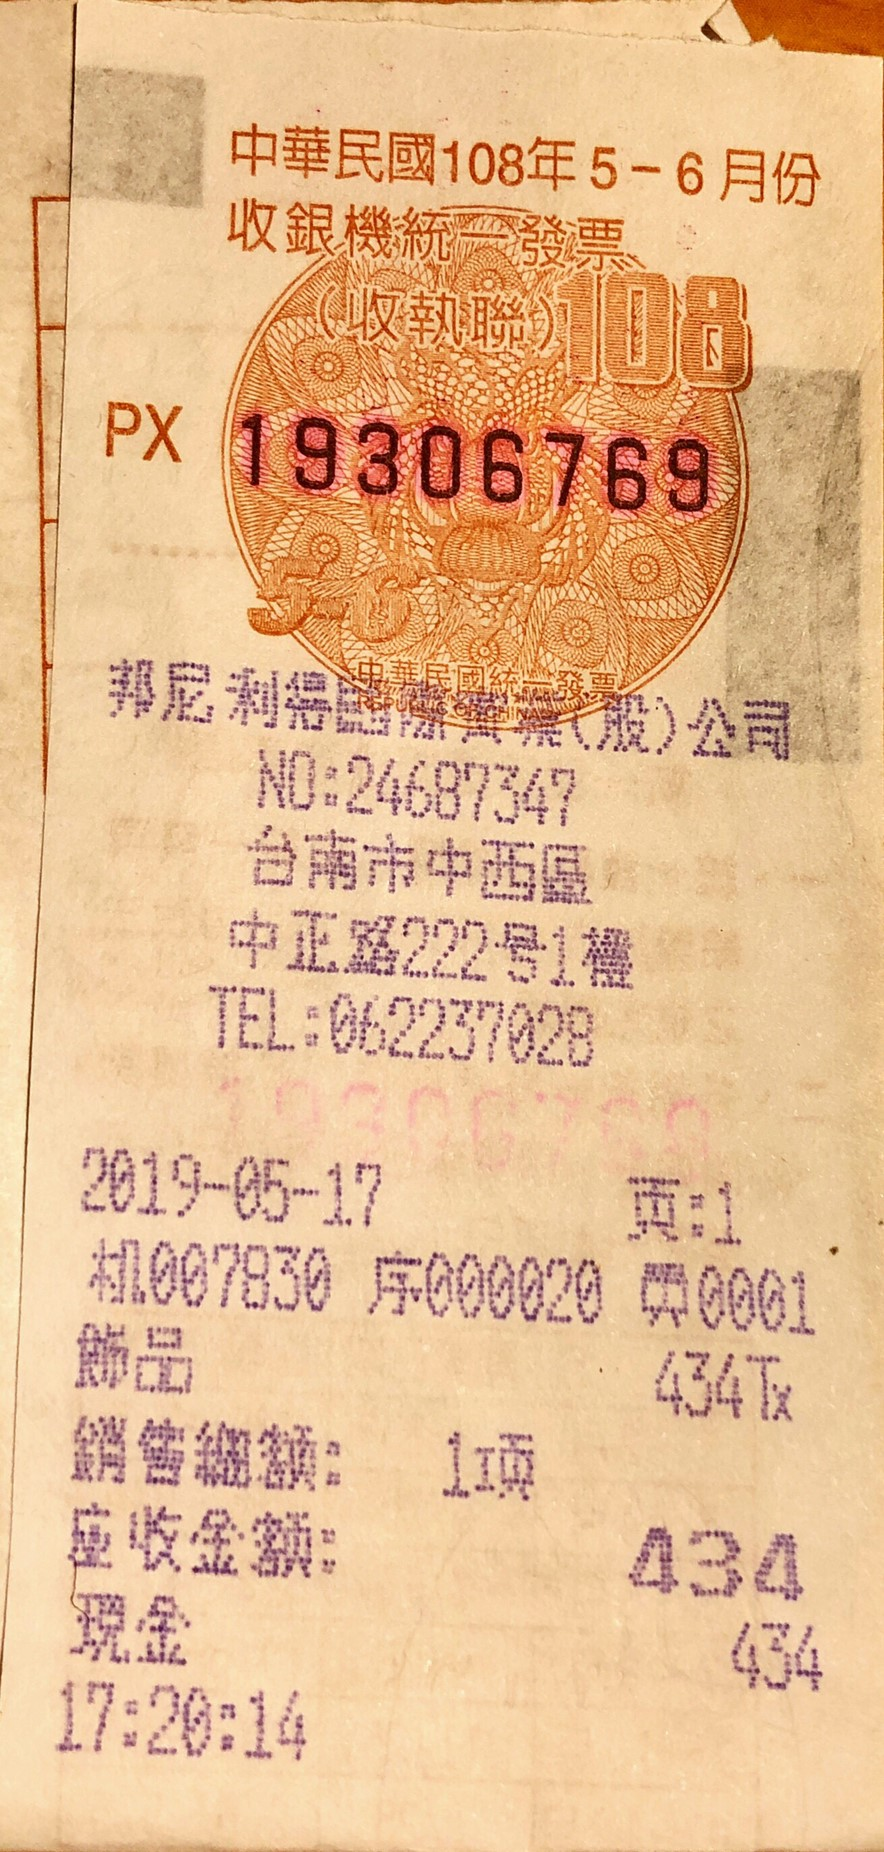Date_Old: (438, 130, 831, 211)
Number_Old: (227, 400, 721, 523)
